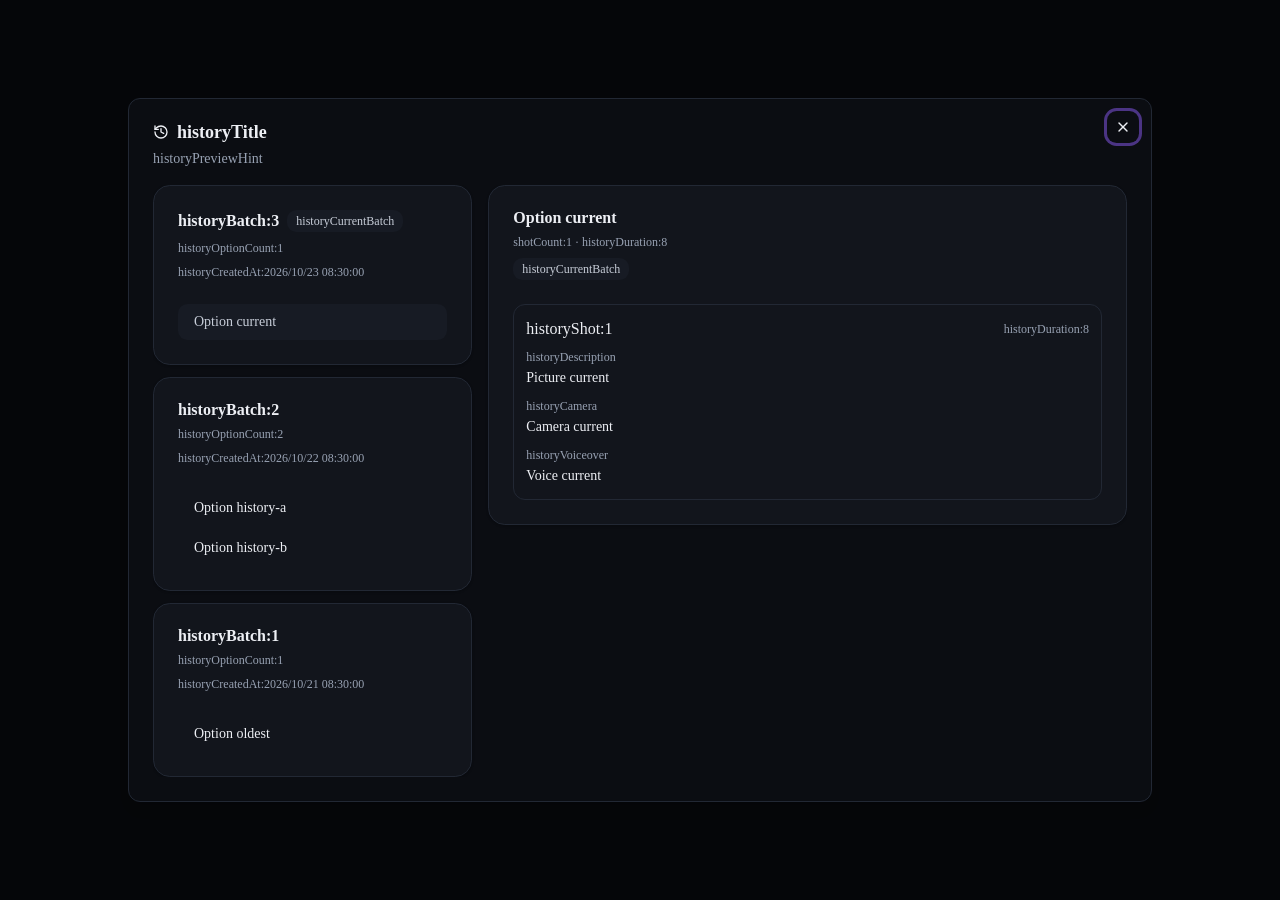
Test case: script history viewer › groups all saved options by newest version, labels the current batch and previews without mutations
This screenshot has width=1280, height=900.
Expected: the element that starts with "historyBatch:3" shows "historyCurrentBatch", [296,214,394,228]
Expected: the element that starts with "historyBatch:2" shows "historyOptionCount:2", [178,427,283,441]
Click the button "Option history-b".
click(240, 548)  # box [178,530,447,566]
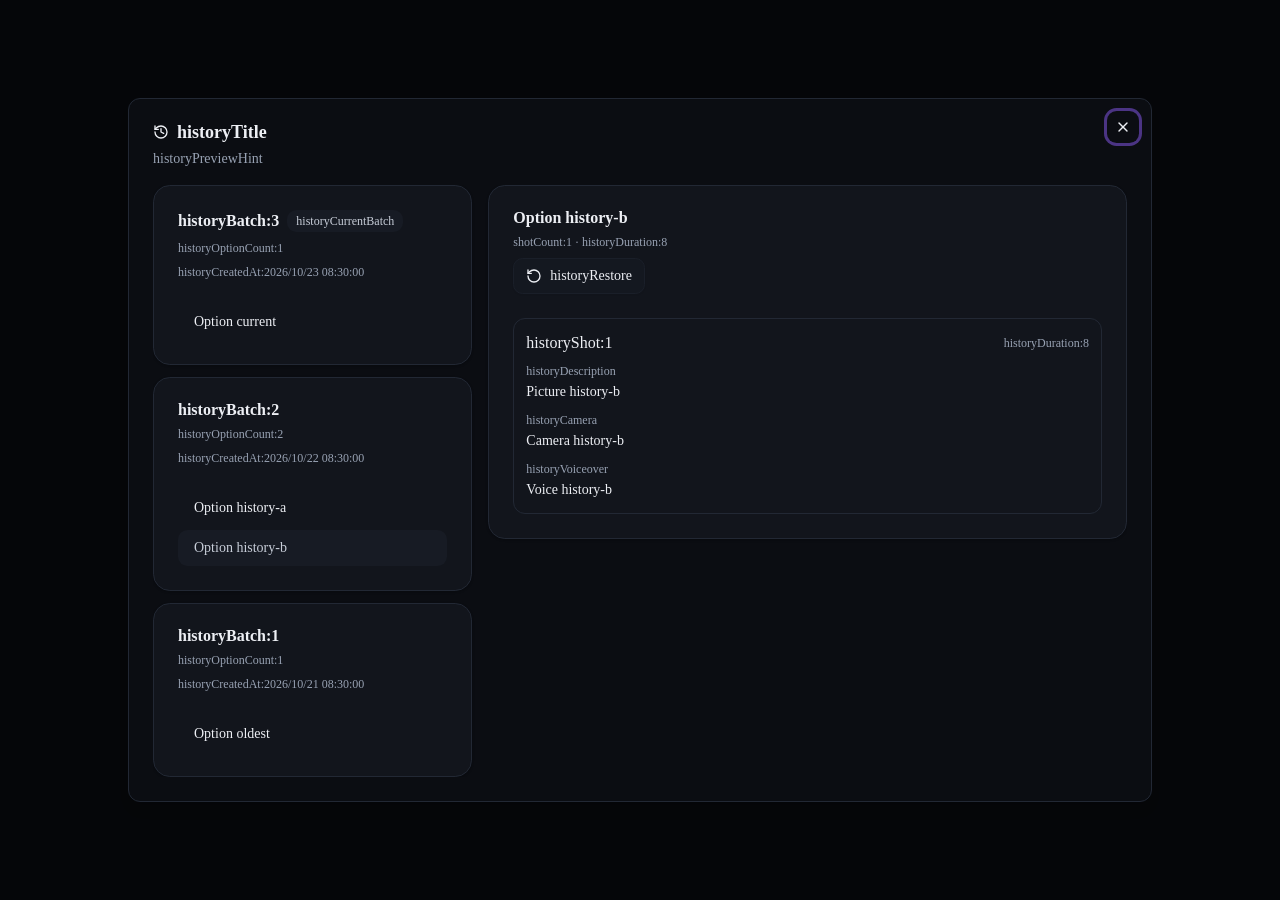
Now the element named "historyView" shows "Picture history-b", box [526,384,620,399]
Now the element named "historyView" shows "Camera history-b", box [526,433,624,448]
Now the element named "historyView" shows "Voice history-b", box [526,482,612,496]
